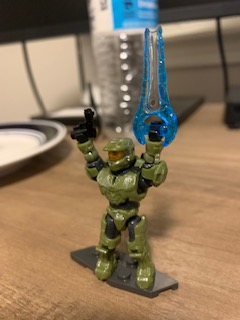chief: (72, 129, 169, 293)
pistol: (69, 108, 100, 144)
spartan: (70, 127, 167, 291)
up: (71, 126, 170, 208)
